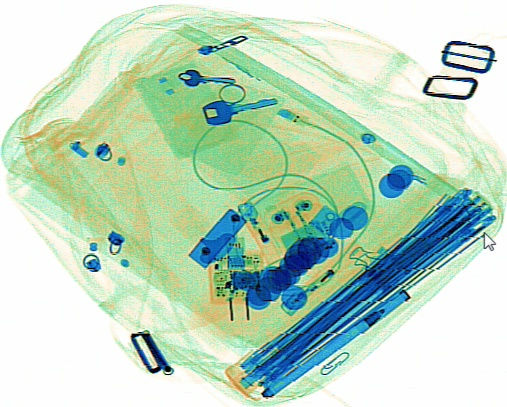lighter: (277, 240, 365, 314), (236, 198, 282, 269)
